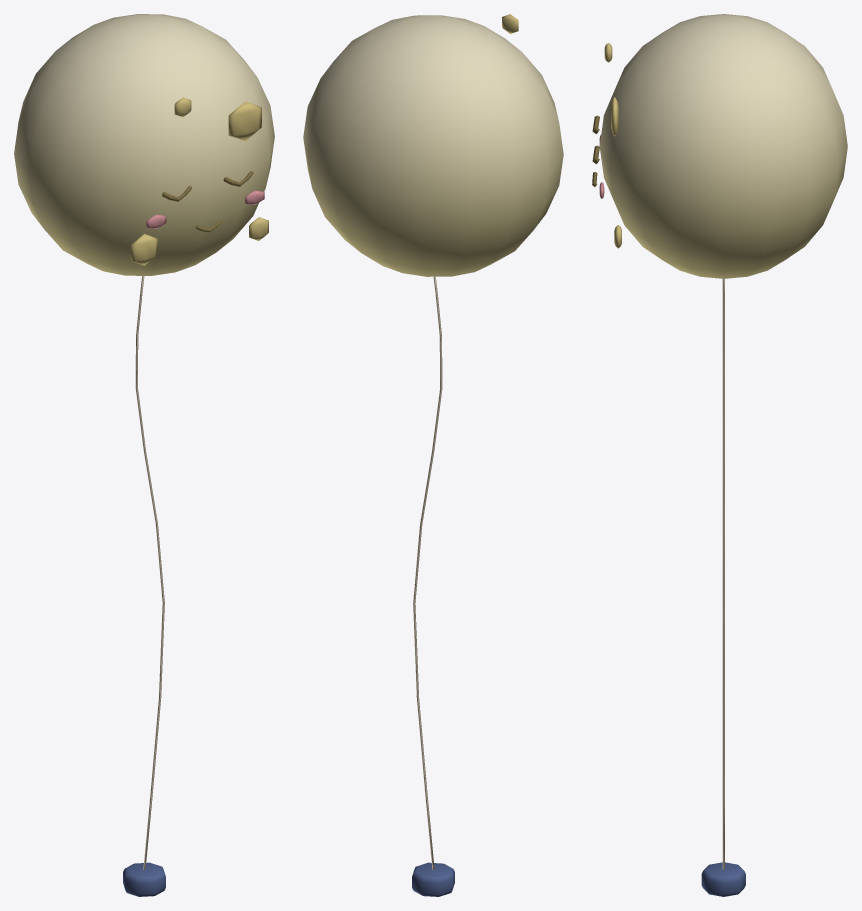
Rendered from moon_balloon.glb.
3 renders of one model, left to right at view 1: azimuth 30°, elevation 25°; view 2: azimuth 150°, elevation 25°; view 3: azimuth 270°, elevation 25°, orthographic.
Parts seen in each view (by area): view 1: balloon, moon_balloon; view 2: balloon, moon_balloon; view 3: balloon, moon_balloon.
Boxes of the visible parts, x1,y1,x2,y2 form: balloon: (14,14,274,869); moon_balloon: (123,862,165,896); balloon: (303,14,563,869); moon_balloon: (412,862,454,896); balloon: (592,14,847,869); moon_balloon: (701,862,745,896).
Bounding box in the file's own units: 0.6 × 2.15 × 0.577.
